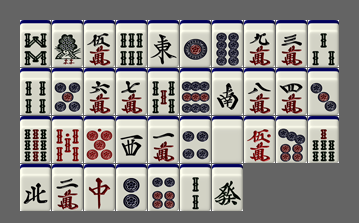0m: (244, 116, 275, 163)
0p: (84, 116, 115, 163)
0s: (52, 116, 83, 163)
1m: (148, 116, 179, 163)
1p: (180, 20, 211, 67)
1s: (52, 20, 83, 67)
1z: (148, 20, 179, 67)
2m: (52, 164, 83, 211)
2p: (116, 164, 147, 211)
2s: (180, 164, 211, 211)
2z: (212, 68, 243, 115)
3m: (276, 20, 307, 67)
3p: (308, 68, 339, 115)
3s: (308, 20, 339, 67)
3z: (116, 116, 147, 163)
4m: (276, 68, 307, 115)
4p: (180, 116, 211, 163)
4s: (20, 68, 51, 115)
4z: (20, 164, 51, 211)
5m: (84, 20, 115, 67)
5p: (52, 68, 83, 115)
5s: (148, 68, 179, 115)
5z: (212, 116, 243, 163)
6m: (84, 68, 115, 115)
6p: (148, 164, 179, 211)
6s: (116, 20, 147, 67)
6z: (212, 164, 243, 211)
7m: (116, 68, 147, 115)
7p: (276, 116, 307, 163)
7s: (308, 116, 339, 163)
7z: (84, 164, 115, 211)
8m: (244, 68, 275, 115)
8p: (212, 20, 243, 67)
8s: (20, 20, 51, 67)
9m: (244, 20, 275, 67)
9p: (180, 68, 211, 115)
9s: (20, 116, 51, 163)
